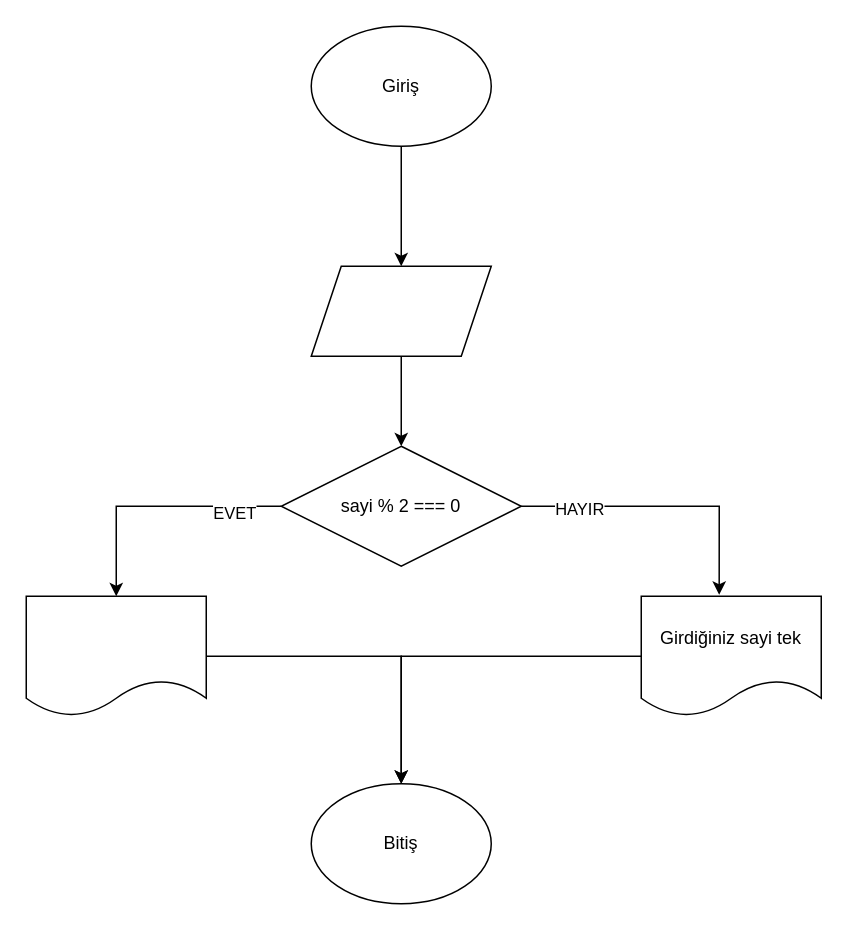
The diagram is 848 pixels wide and 930 high, and some of its shapes have lost their labels. Here are the shapes that lost their labels. From the top down, the box of each, then its label:
(310, 265, 491, 356): sayi
(25, 595, 206, 716): Girdiğiniz sayi çift
